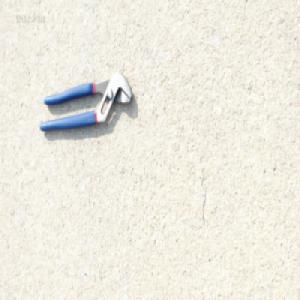Pliers: (38, 70, 133, 134)
